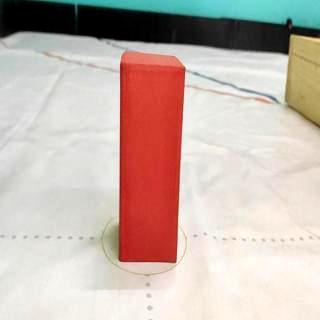redbox: (118, 51, 186, 262)
